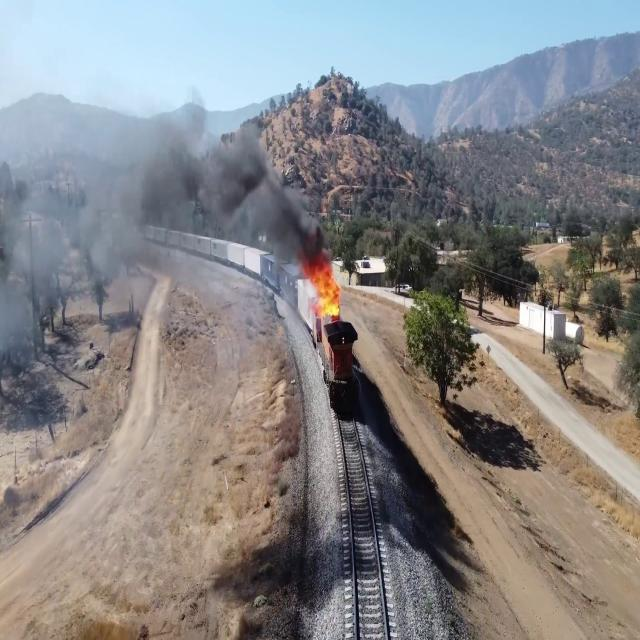Fire: (311, 267, 348, 325)
Smoke: (159, 118, 250, 240), (243, 169, 314, 264)
